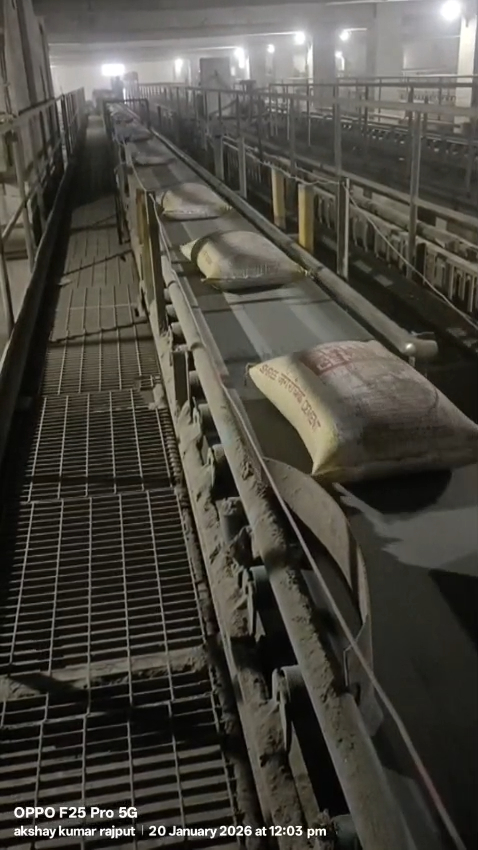Bag: (261, 333, 474, 473), (178, 229, 312, 293), (157, 183, 237, 214)
Printed: (256, 346, 421, 429)
